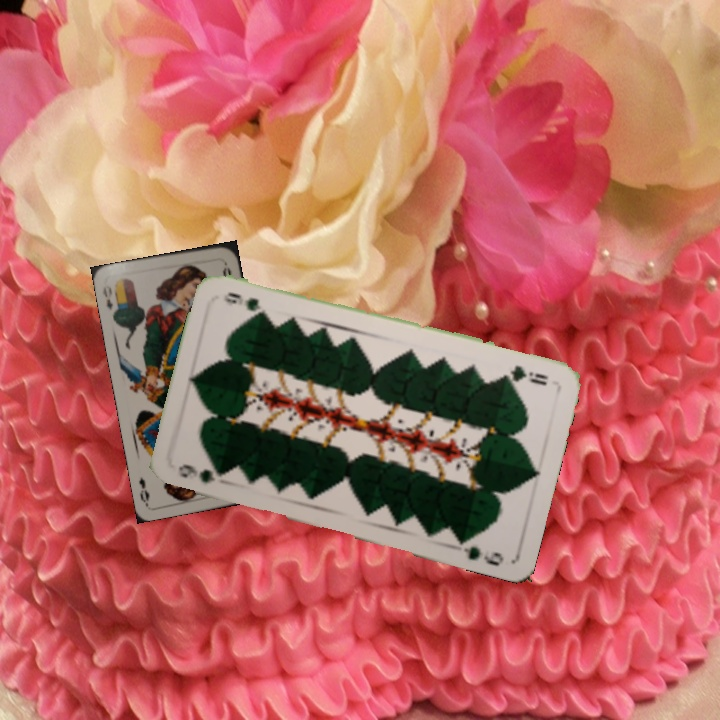EO: (99, 281, 115, 312)
G9: (174, 460, 229, 486), (499, 361, 551, 388)
